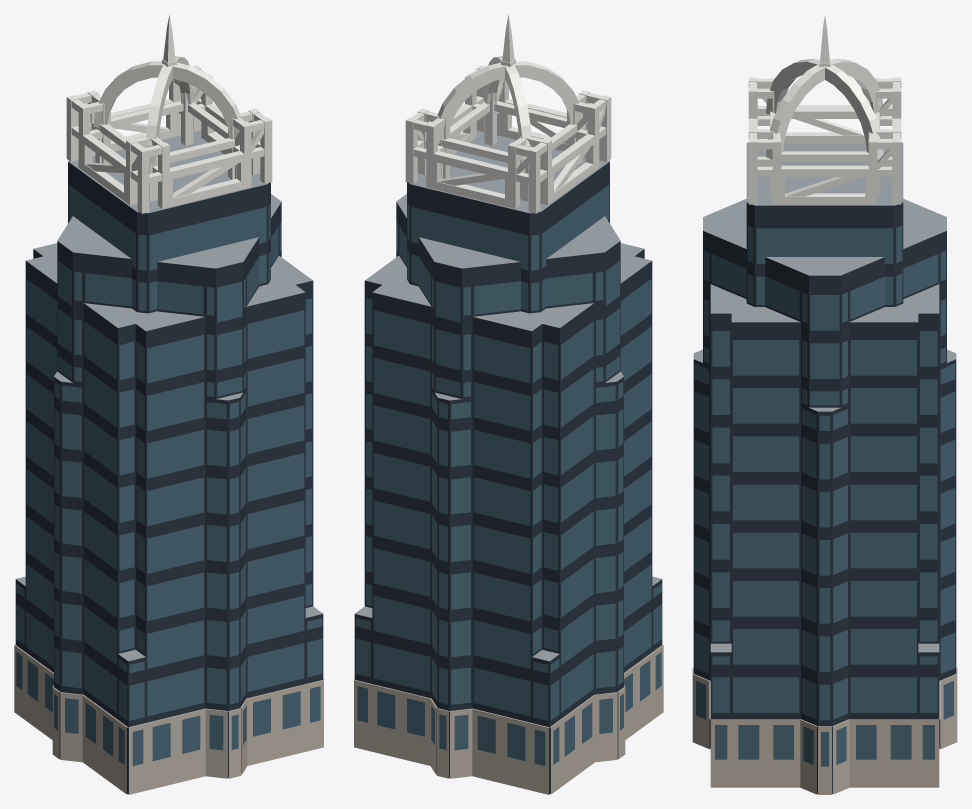
File: atl-queen-tower.glb
The picture shows the model from 3 angles, left to right: view 1: azimuth 30°, elevation 25°; view 2: azimuth 150°, elevation 25°; view 3: azimuth 270°, elevation 25°; orthographic projection.
Visible parts, largest first — view 1: The Queen (Concourse Corporate Center V); view 2: The Queen (Concourse Corporate Center V); view 3: The Queen (Concourse Corporate Center V).
Part boxes in pixels (left/top/right/bottom): The Queen (Concourse Corporate Center V): left=14, top=14, right=324, bottom=794; The Queen (Concourse Corporate Center V): left=353, top=14, right=663, bottom=794; The Queen (Concourse Corporate Center V): left=692, top=15, right=957, bottom=794.
Size of the model in its own units: 57.7 by 174 by 57.7.
